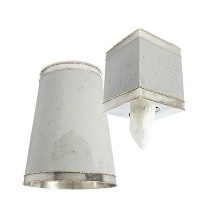tissue: (122, 101, 162, 157)
